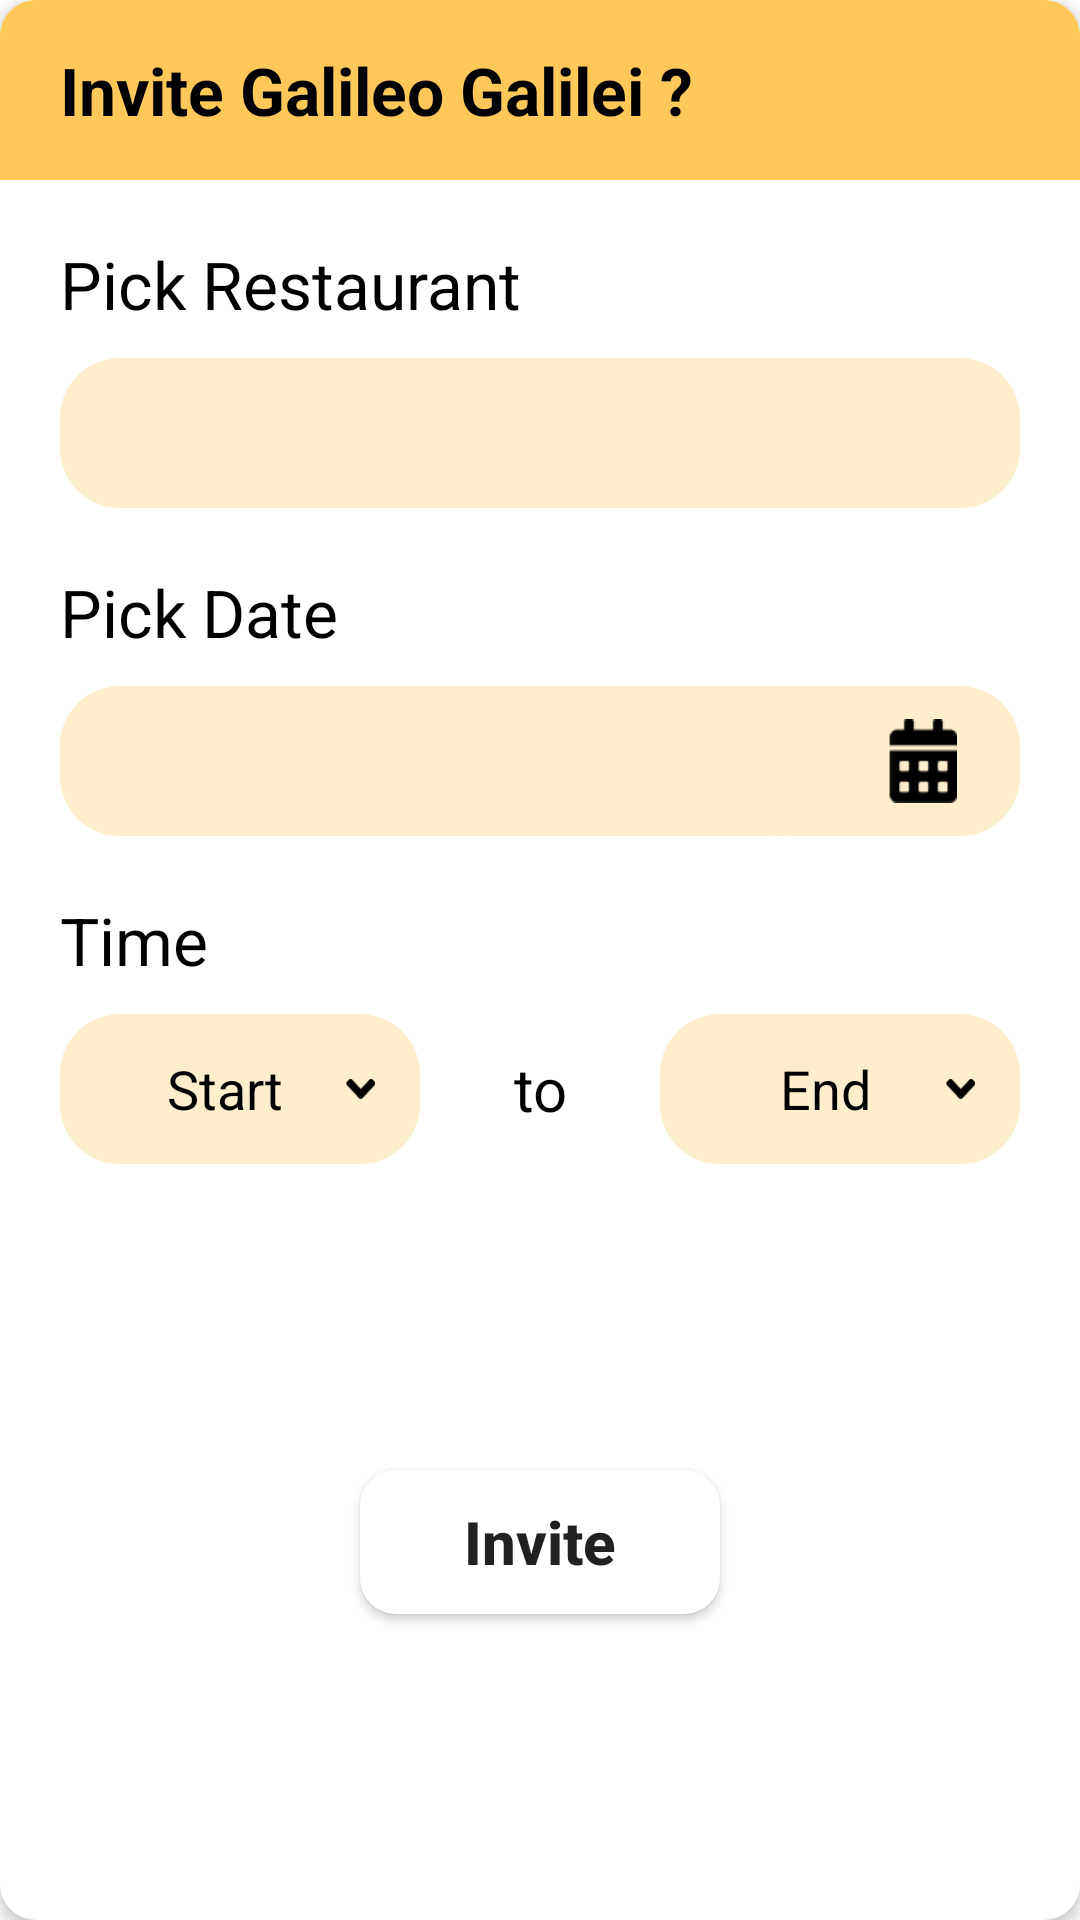

Locate icon controls on the screen. Image size 1080 x 1920, boxes as (x1, y1, x2, y2).
arrow down: (346, 1079, 375, 1099), (946, 1079, 975, 1099)
calendar: (889, 719, 957, 803)
